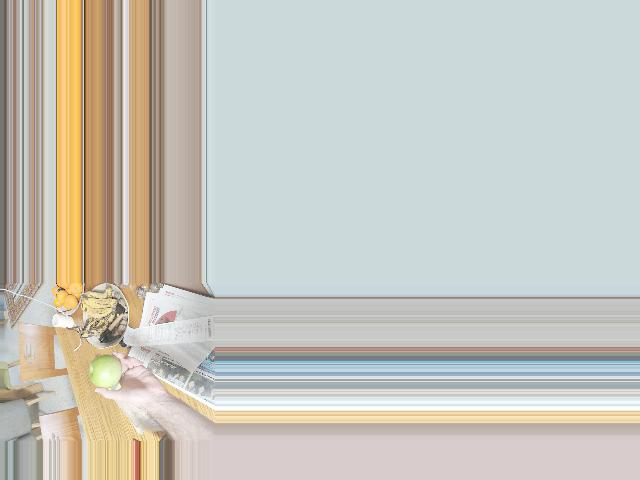apple: (88, 357, 126, 393)
